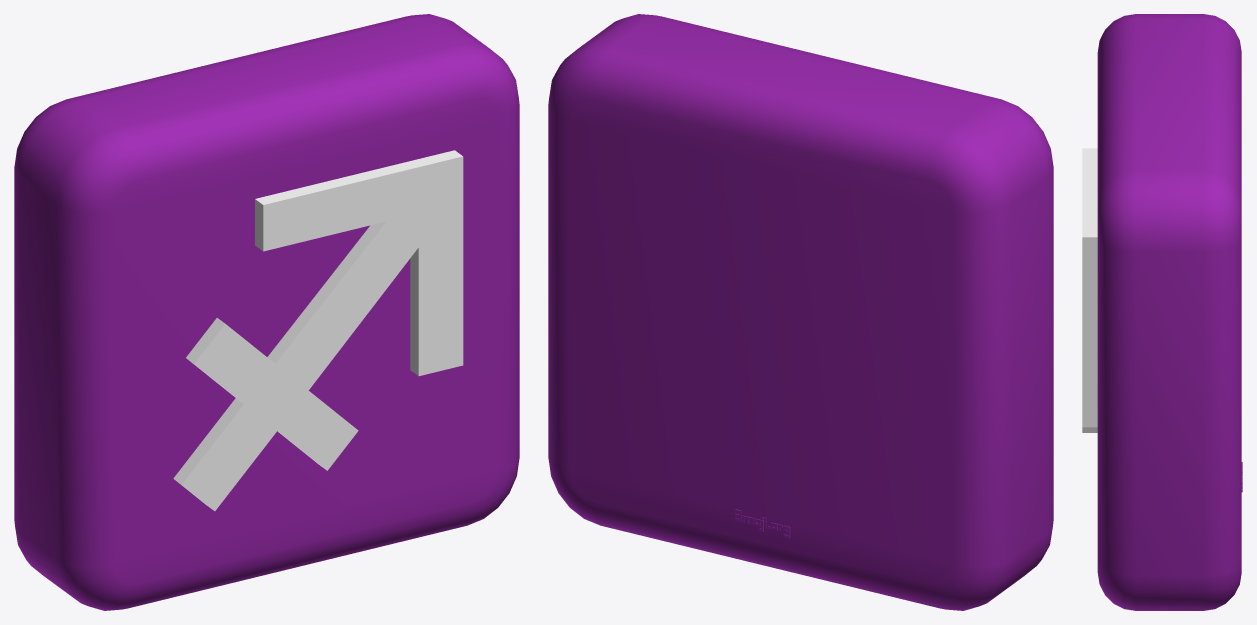
The model's file is sagittarius.fbx.
The picture shows the model from 3 angles, left to right: view 1: azimuth 30°, elevation 25°; view 2: azimuth 150°, elevation 25°; view 3: azimuth 270°, elevation 25°; orthographic projection. The views are drawn at different scales.
Visible parts, largest first — view 1: Cube.6407; view 2: Cube.6407; view 3: Cube.6407.
Part boxes in pixels (x1,y1,x2,y2): Cube.6407: [14, 14, 519, 610]; Cube.6407: [548, 14, 1053, 610]; Cube.6407: [1082, 14, 1242, 610].
Size of the model in its own units: 220 by 220 by 73.37.
1 material, 1 textured.
